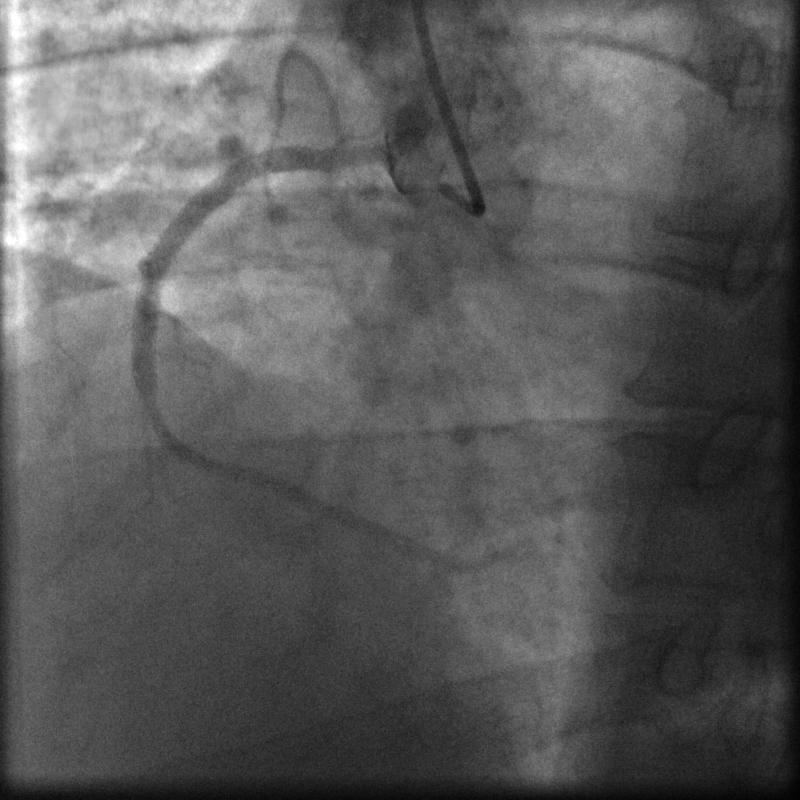Stenosis: (129, 369, 165, 432)
